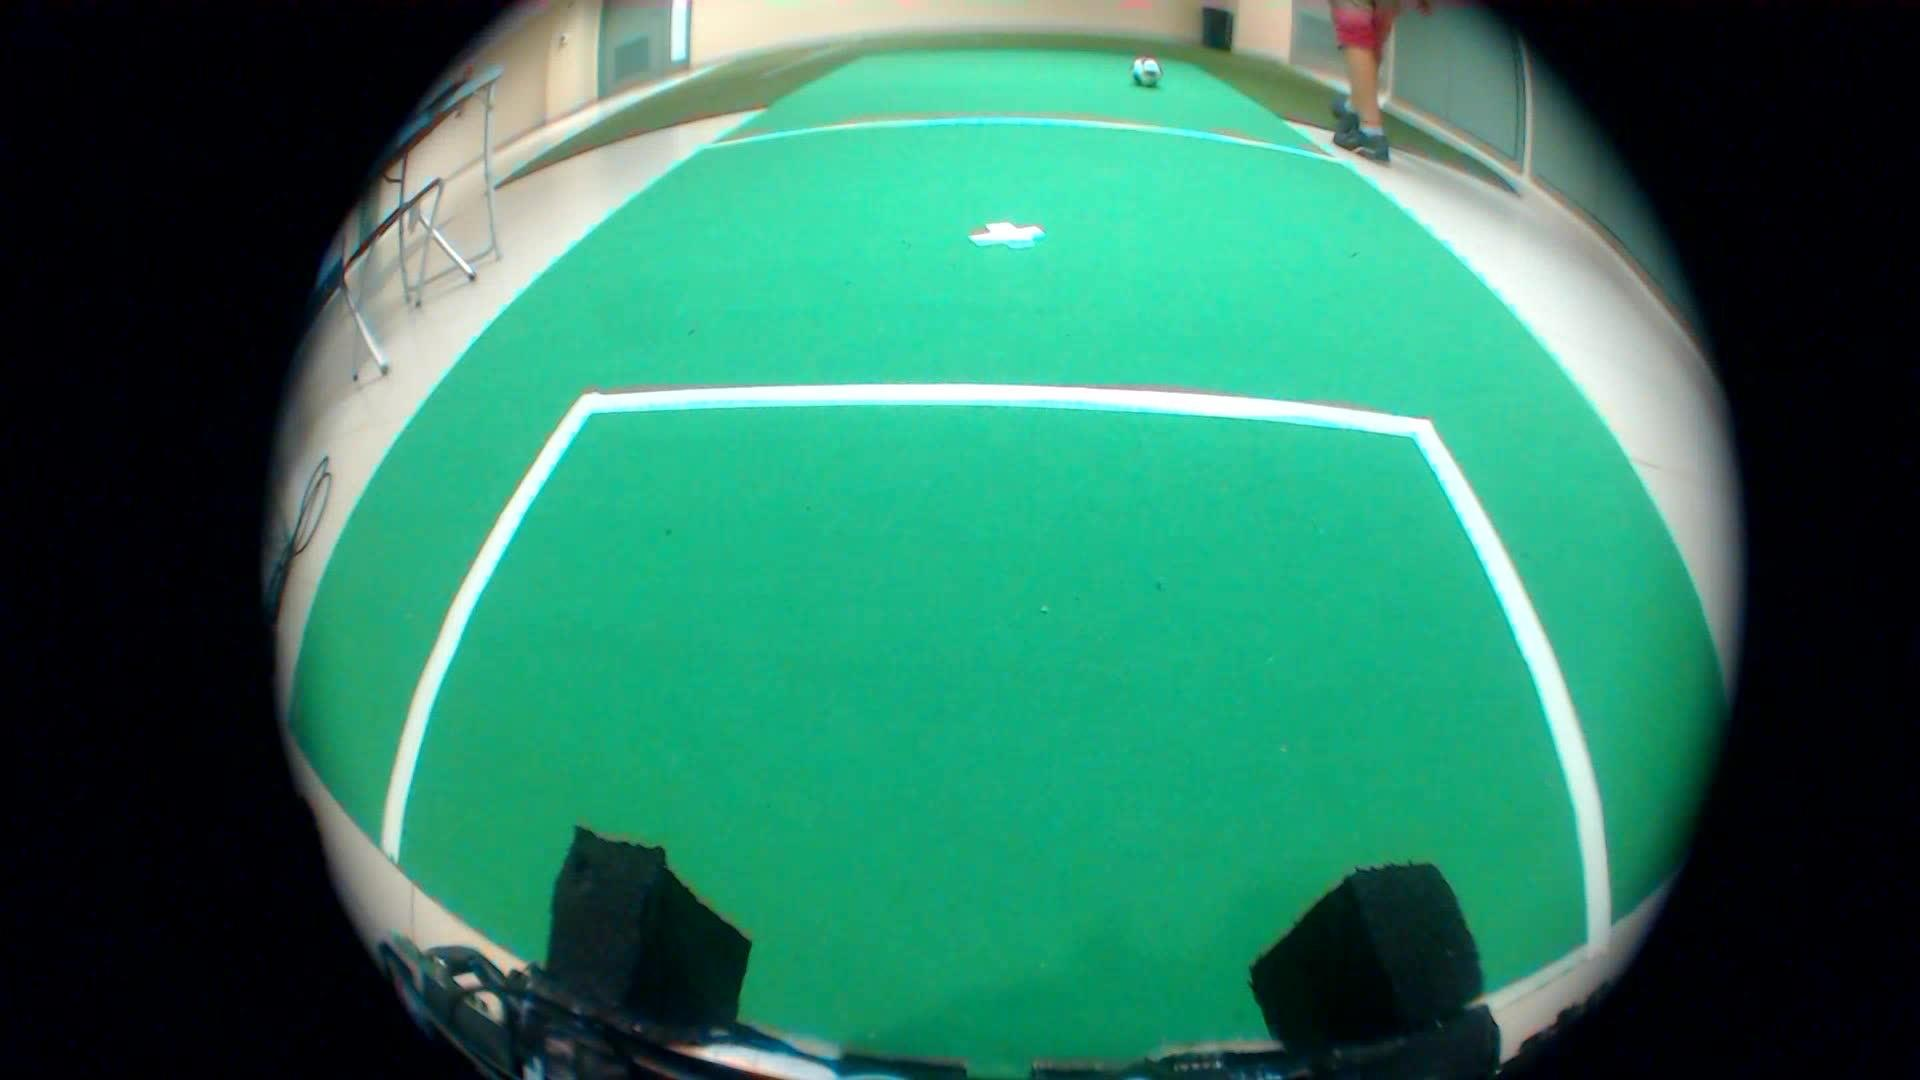ball: (1122, 47, 1174, 102)
